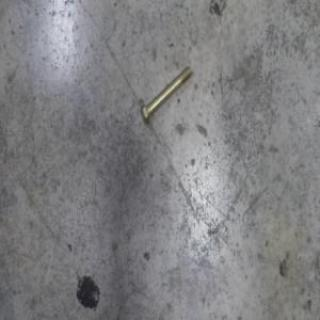Bolttrack_idkeyframe: (138, 65, 191, 125)
